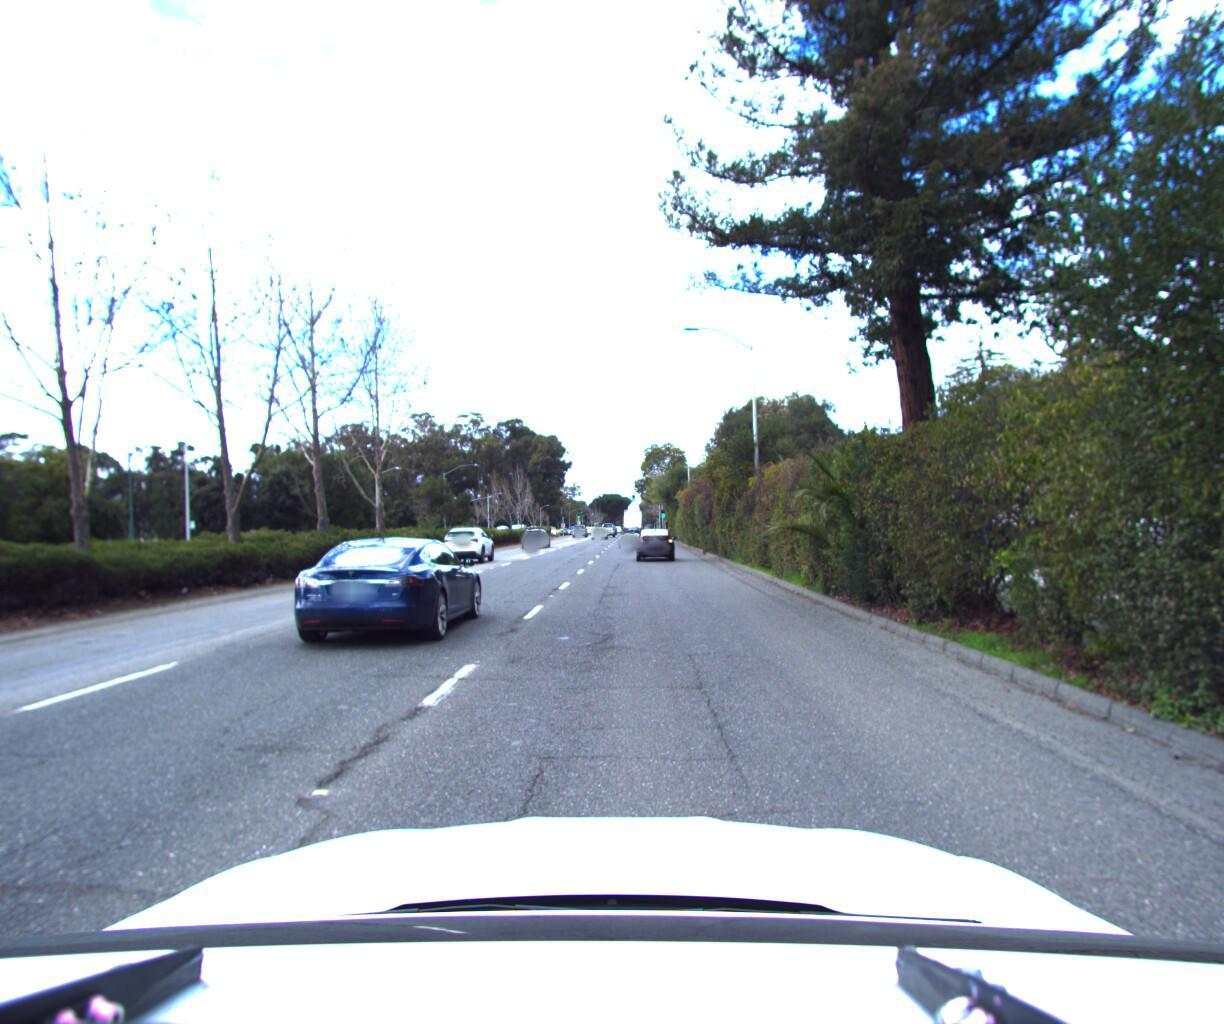car: (276, 532, 491, 653), (441, 522, 502, 565), (633, 524, 678, 562), (519, 523, 552, 549), (611, 525, 642, 551)
